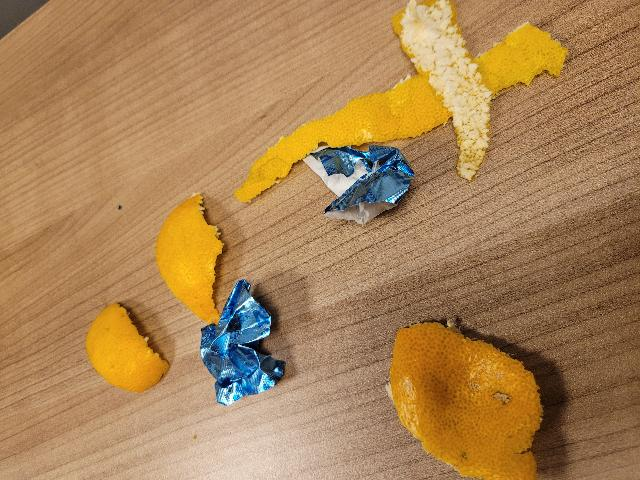Kagit: (202, 283, 286, 404), (306, 141, 416, 227)
Organik: (235, 21, 571, 204), (394, 322, 542, 480), (394, 0, 494, 181), (156, 192, 223, 326), (87, 303, 170, 391)
